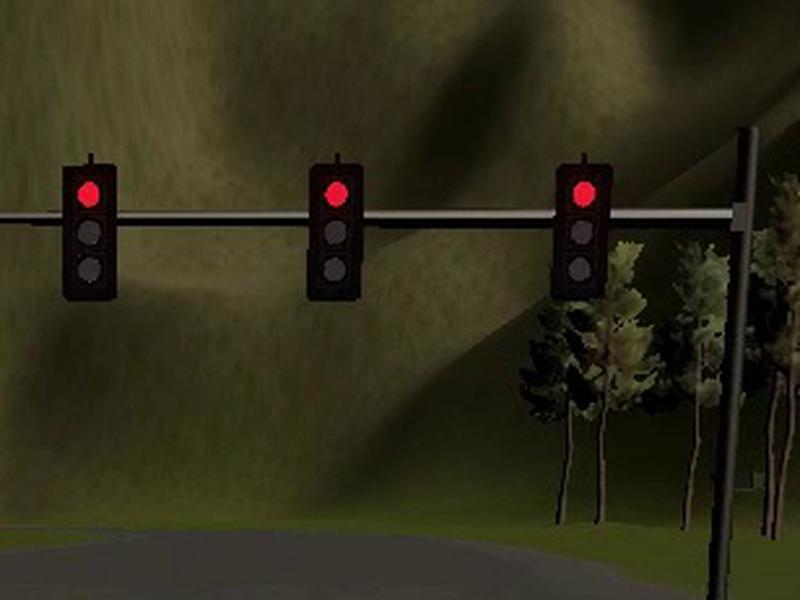Red: (551, 163, 610, 302), (61, 162, 118, 302), (307, 163, 363, 300)
